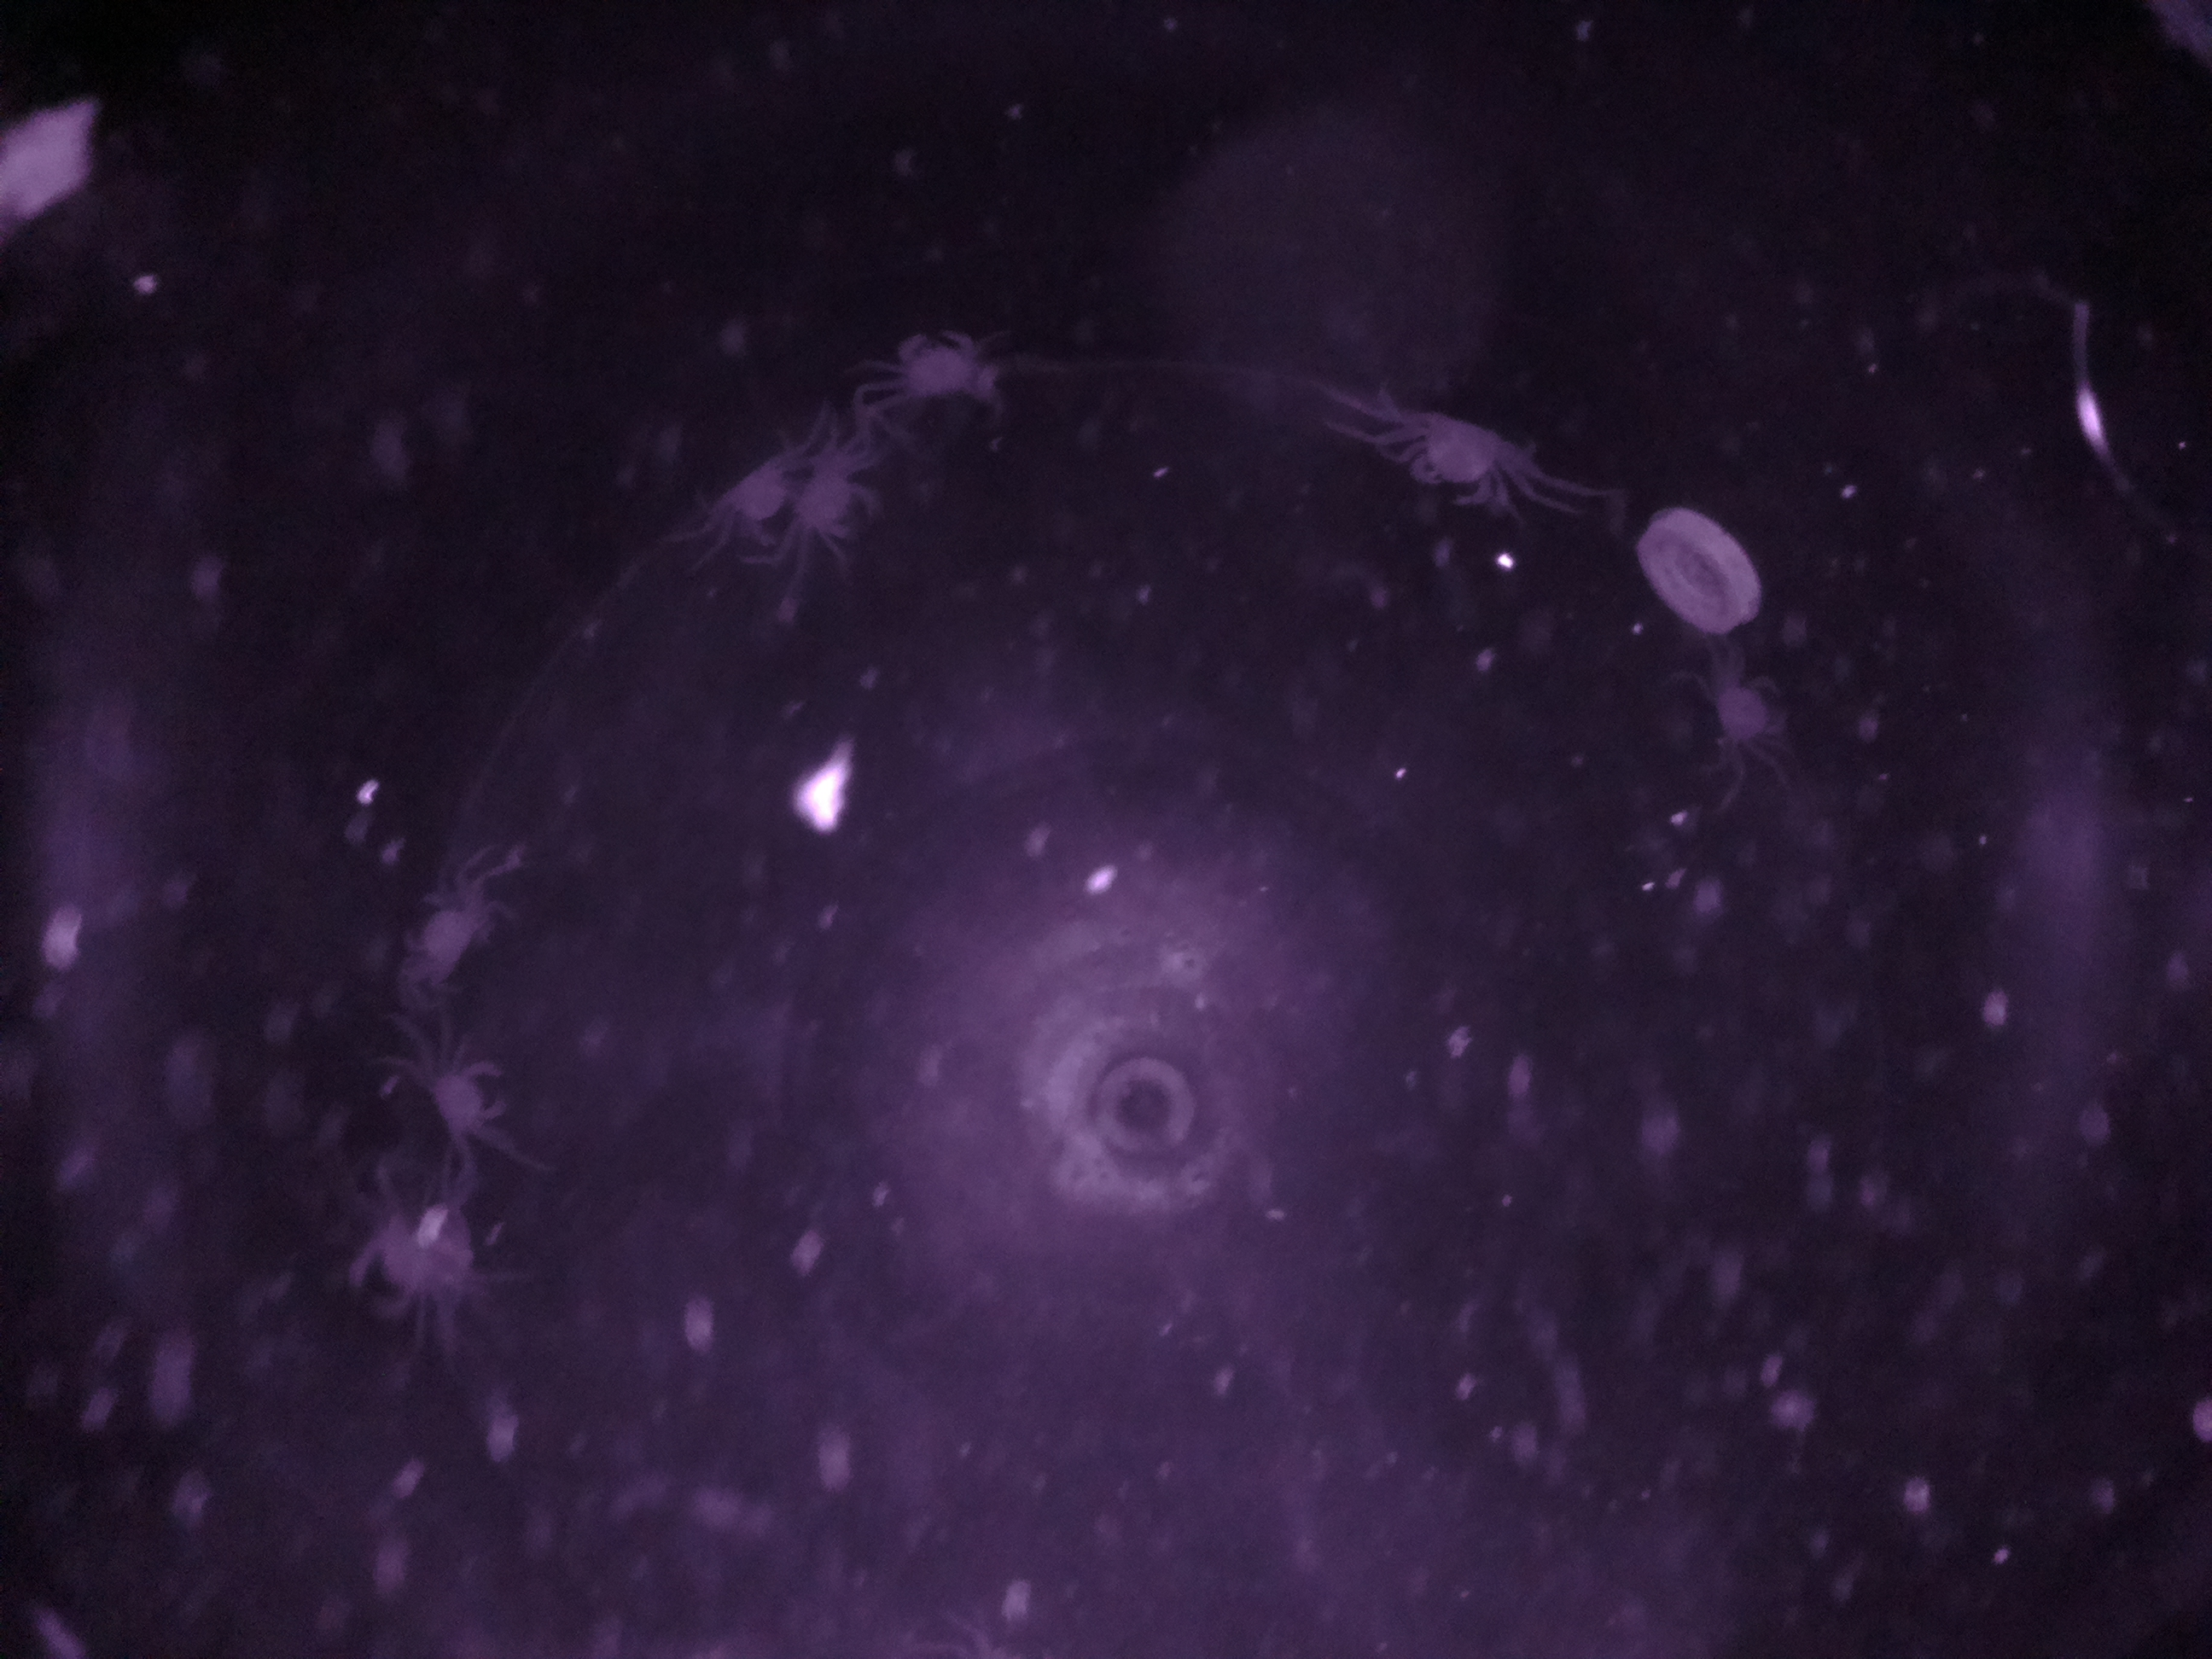Crab: (1378, 387, 1533, 523), (390, 871, 523, 1023), (874, 307, 1019, 425), (766, 450, 906, 558), (415, 1053, 524, 1161)
